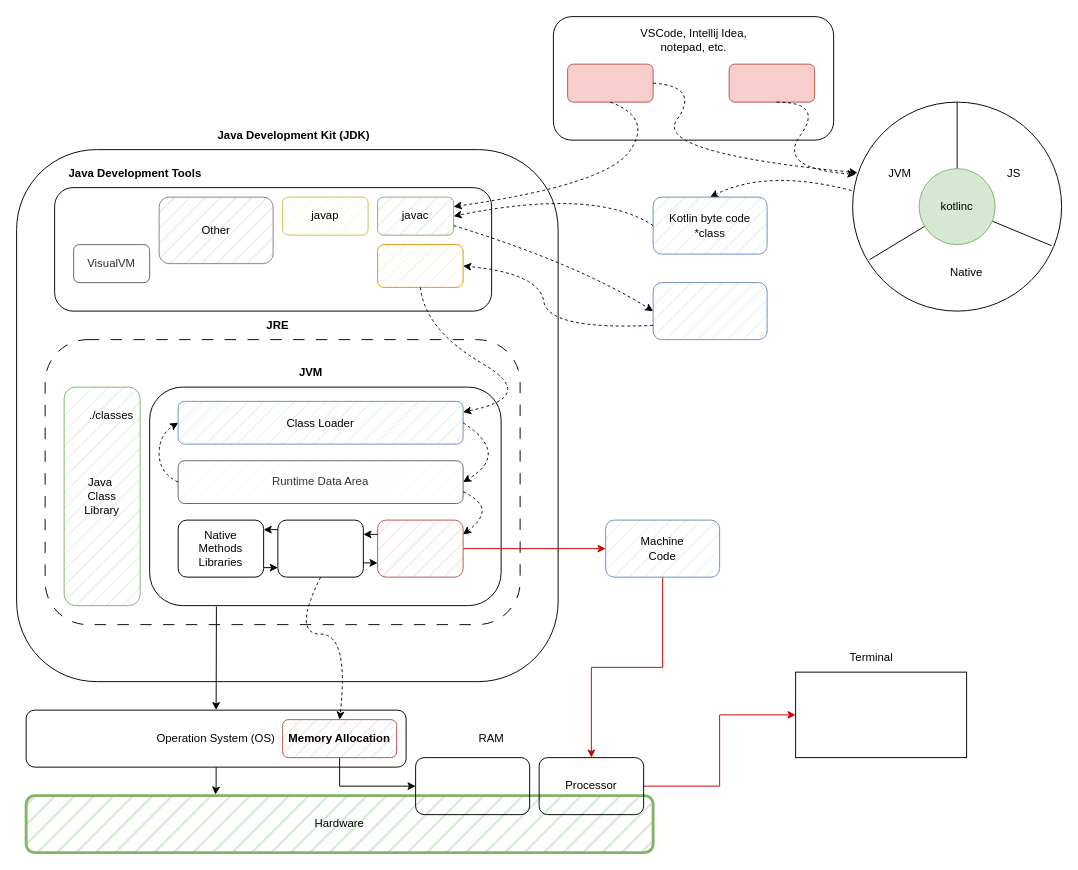
This 1078x870 diagram has some shape labels left out. The centre of each missing label's shape, as x and y in pixels:
"$ kotlin run $ Hello World!" goes at (881,714).
"*.java" goes at (610,82).
"*.kt" goes at (771,82).
"Execution Engine" goes at (420,548).
"java" goes at (420,265).
"Java byte code *class" goes at (709,311).
"Native Memory" goes at (472,786).
"Native Methods Interface (JNI)" goes at (320,548).
